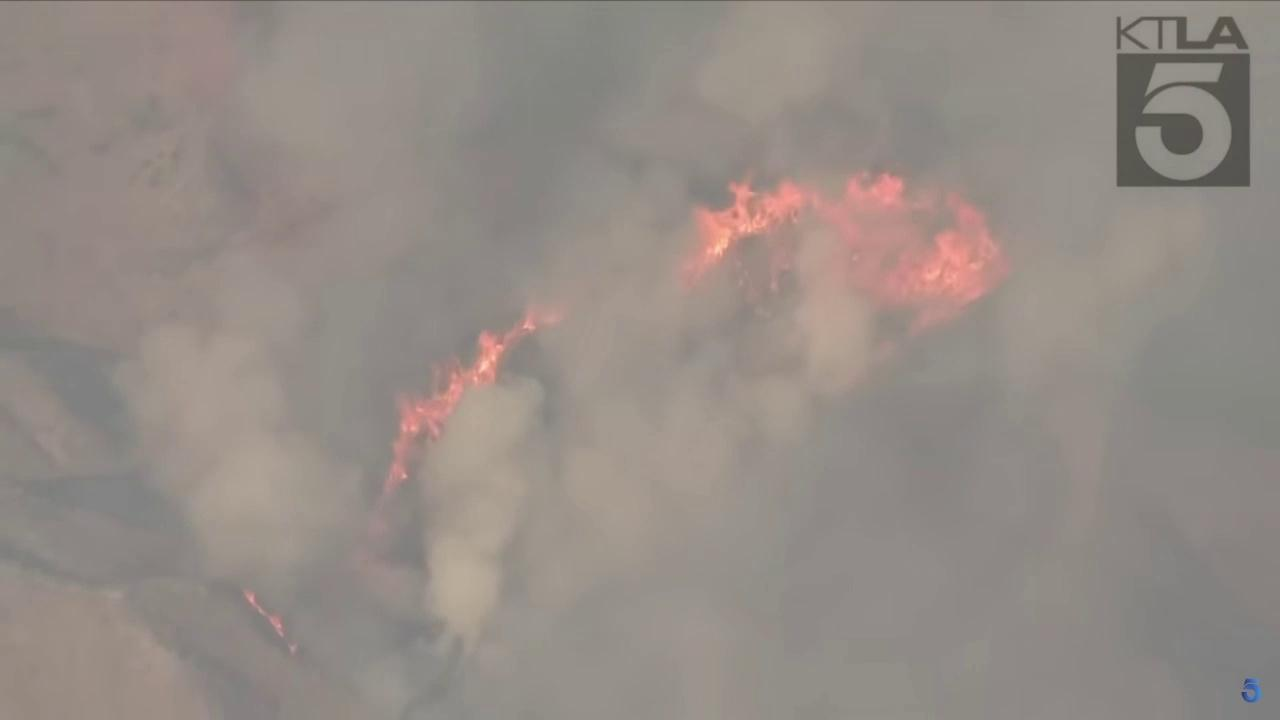fire: (677, 161, 1011, 340), (381, 294, 571, 500), (244, 584, 290, 641)
smoke: (95, 0, 1280, 720)
